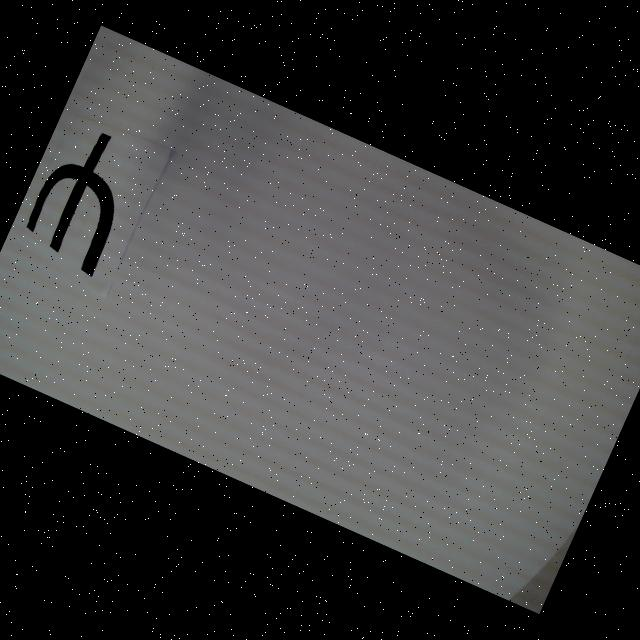PSI: (17, 120, 148, 278)
